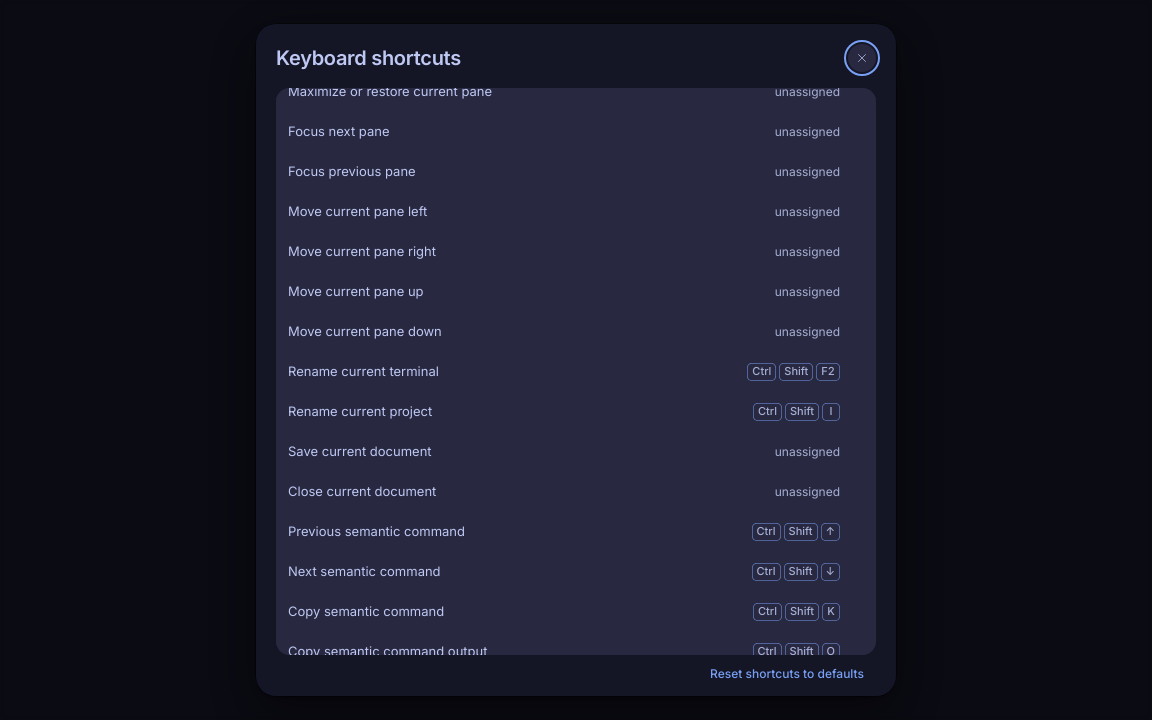
Test: ShortcutEditor › captures standalone function keys but rejects unmodified printable keys
(page scrolled)
Click the button with aria-label "rename current terminal (currently Ctrl+Shift+F2)": (804, 372) [739,358,868,386]
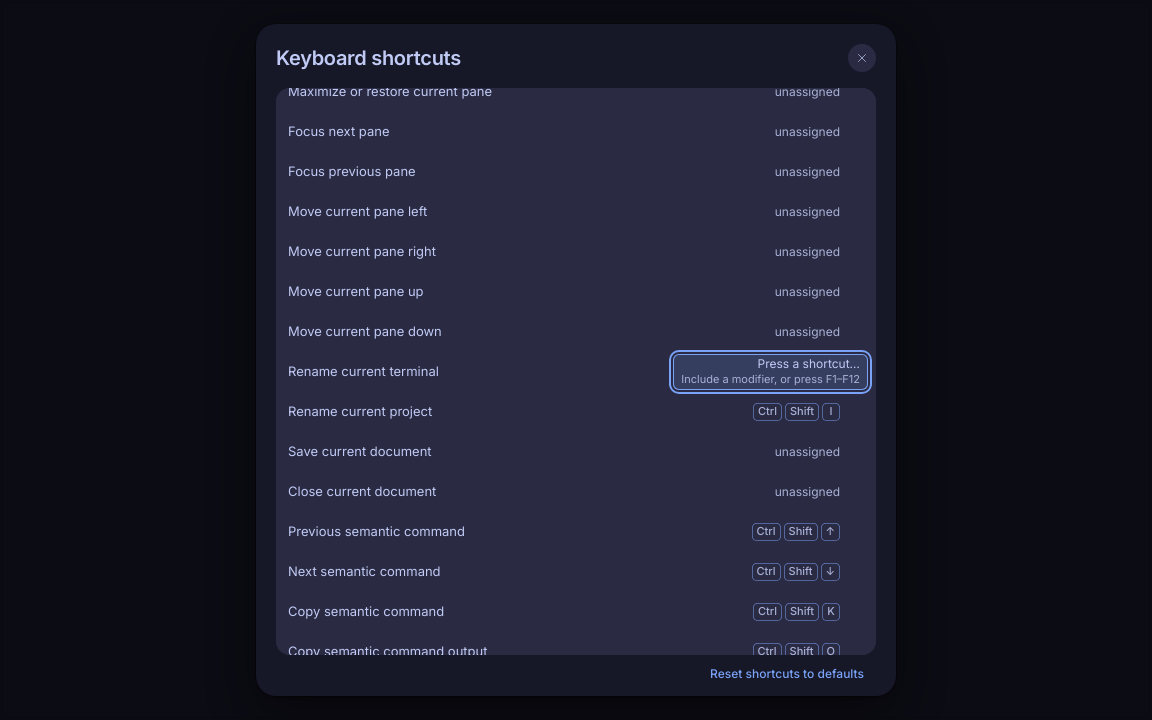
Press q in the field named "press a shortcut for rename current terminal", box [673,354,868,390]
Expected: the field named "press a shortcut for rename current terminal" is shown
Press F3 in the field named "press a shortcut for rename current terminal", box [673,354,868,390]
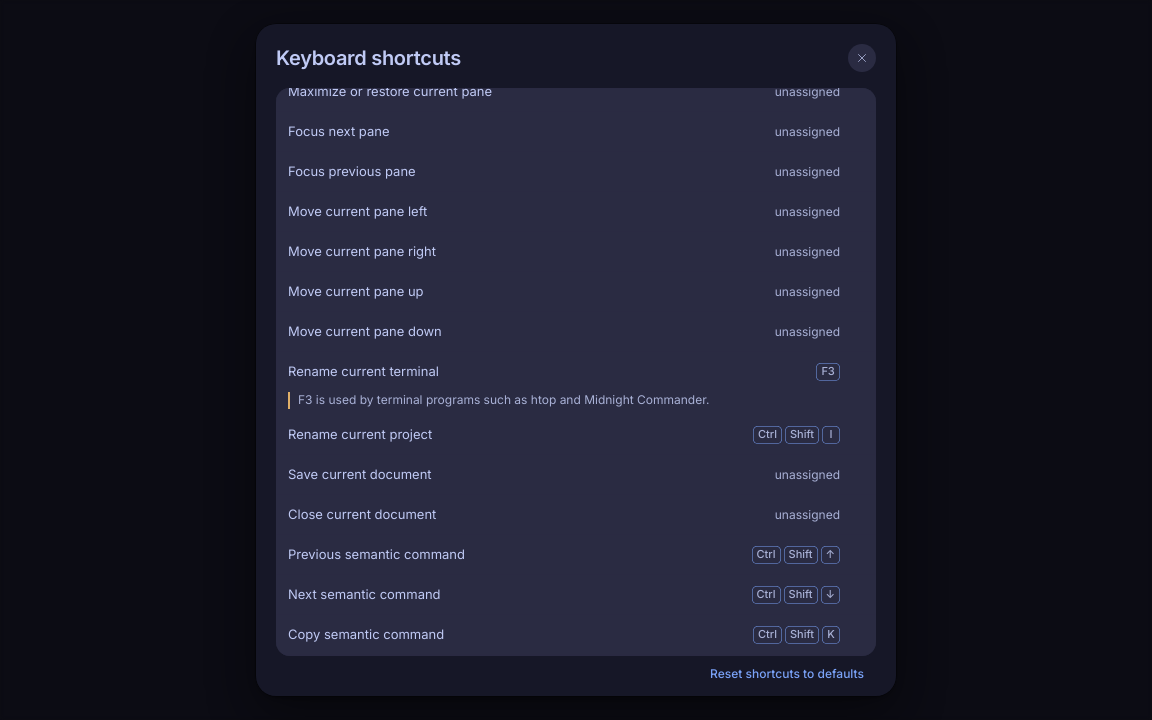
Expected: the button named "rename current terminal (currently F3)" is shown, [780,358,868,386]
